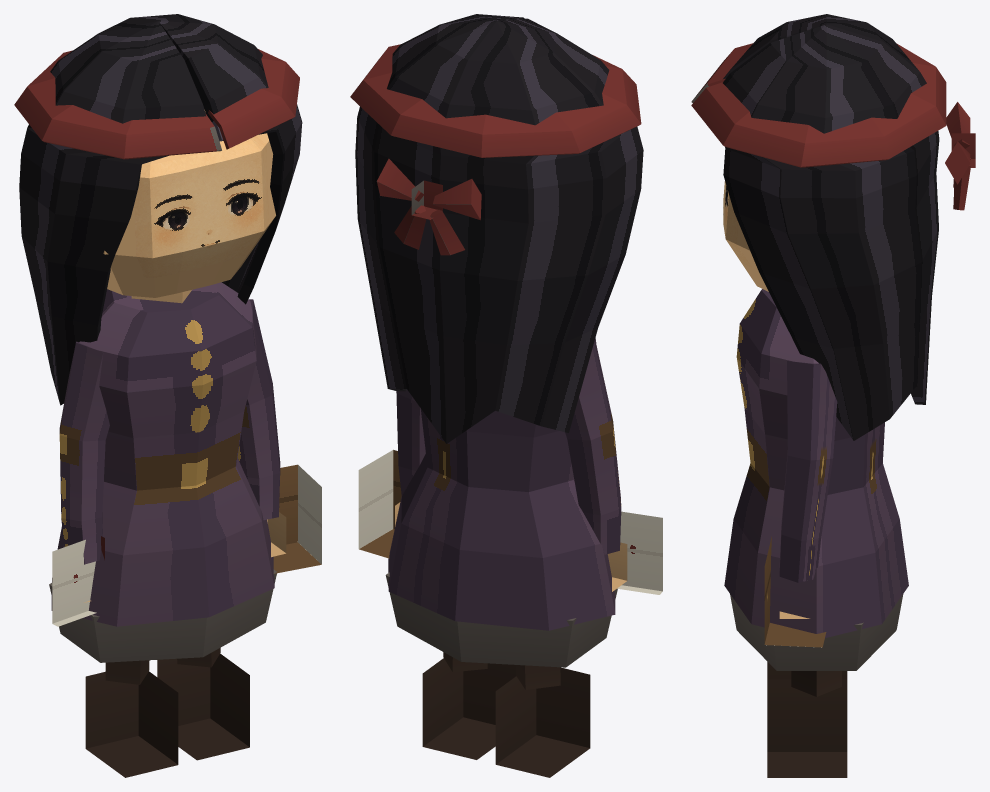
The model's file is postmaster-v04.glb.
3 renders of one model, left to right at view 1: azimuth 30°, elevation 25°; view 2: azimuth 150°, elevation 25°; view 3: azimuth 270°, elevation 25°, orthographic.
Parts seen in each view (by area): view 1: postmaster; view 2: postmaster; view 3: postmaster.
Boxes of the visible parts, x1,y1,x2,y2 form: postmaster: (14,14,321,777); postmaster: (350,14,662,777); postmaster: (691,14,975,777).
Bounding box in the file's own units: 1.02 × 2.59 × 0.9247.
Materials: 2 (2 with a texture image).
